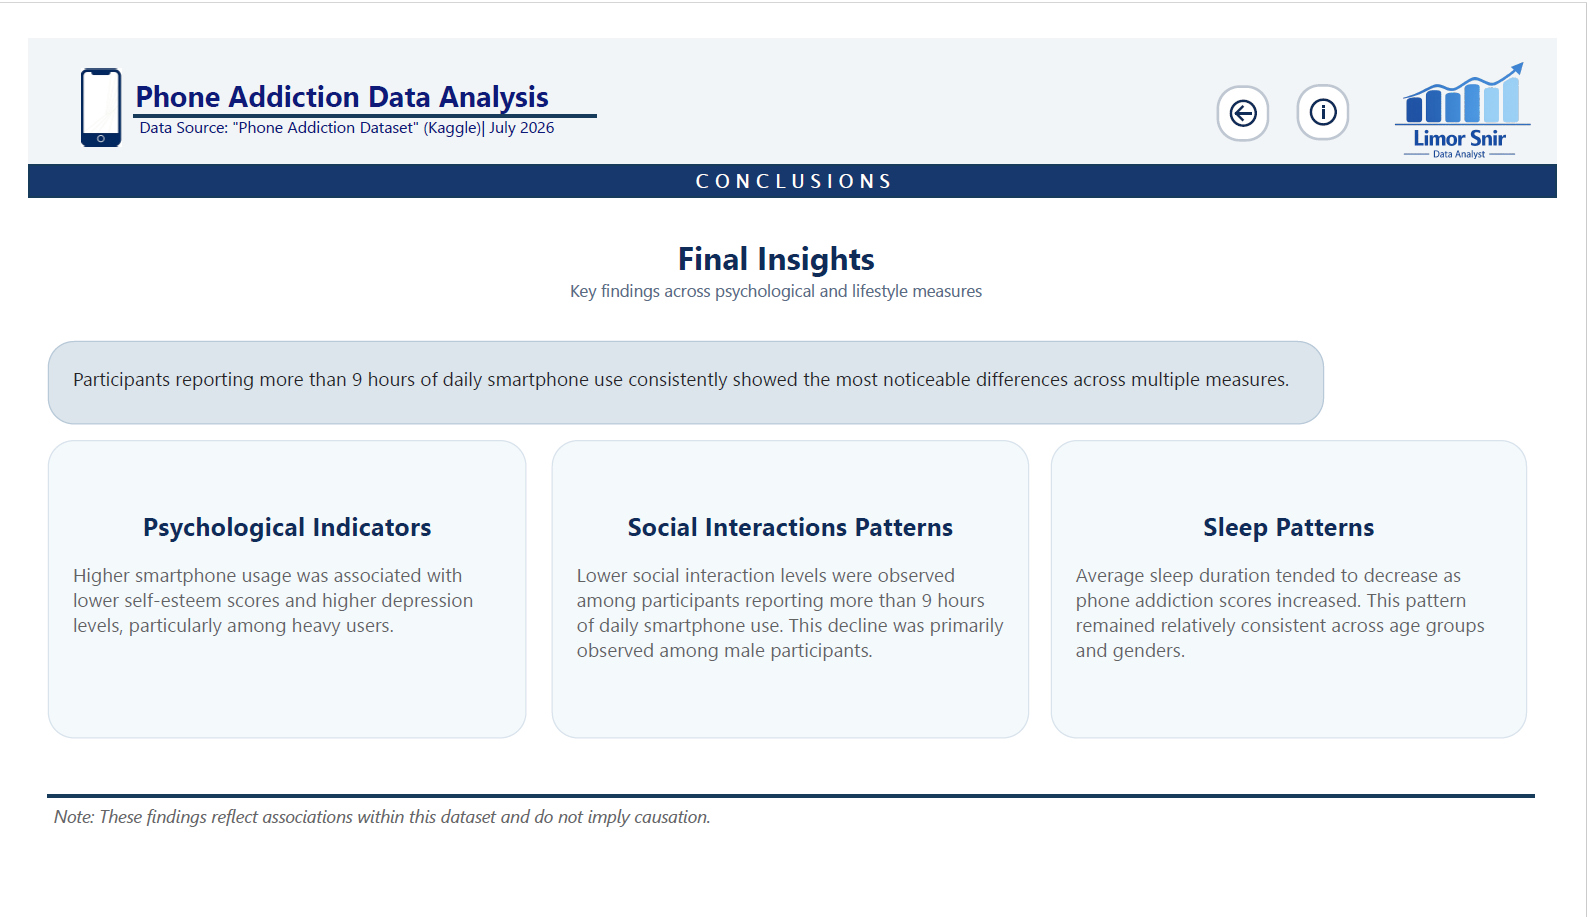

The page's visual inventory and layout, read from the dashboard file:
{"tool":"powerbi","page":{"name":"CONCLUSIONS","canvas":[1280,720],"ordinal":5},"visuals":[{"type":"shape","title":"Title Line","box":[0,79.8,1280,69.8],"z":0},{"type":"textbox","title":"text box Title","box":[0,6.1,1280.3,107.6],"z":1000},{"type":"actionButton","box":[1061.6,44,44,47],"z":2000},{"type":"image","box":[1129.7,18.1,141.9,93.2],"z":3000},{"type":"shape","title":"Page Title","box":[0,110.9,1280,28.4],"z":5000},{"type":"textbox","box":[100.5,166.3,1050.1,83.2],"z":10000},{"type":"textbox","box":[15.9,642,1245,62.2],"z":11000},{"type":"shape","box":[15.9,560.1,1244.8,160.2],"z":12000},{"type":"actionButton","box":[994.8,44.5,44.5,47.3],"z":13000},{"type":"shape","box":[87.6,0,388.3,140.6],"z":14000},{"type":"image","box":[8.6,26.2,104.4,75.2],"z":15000},{"type":"textbox","box":[15.9,342.4,401.1,249.5],"z":20000},{"type":"textbox","box":[856,342.4,398.6,249.5],"z":21000},{"type":"textbox","box":[437.8,342.4,399.9,249.5],"z":22000},{"type":"textbox","box":[15.9,259.2,1068.8,69.7],"z":23000}]}

Visuals, with their boxes in screenshot pixels (x1, y1, x2, y2), scaled from the page's 1280x720 canvas onto the 1587x917 screenshot:
"Title Line" shape: crop(0, 102, 1586, 191)
"text box Title" textbox: crop(0, 8, 1586, 145)
actionButton: crop(1316, 56, 1371, 116)
image: crop(1401, 23, 1577, 142)
"Page Title" shape: crop(0, 141, 1586, 177)
textbox: crop(125, 212, 1427, 318)
textbox: crop(20, 818, 1563, 897)
shape: crop(20, 713, 1563, 916)
actionButton: crop(1233, 57, 1289, 117)
shape: crop(109, 0, 590, 179)
image: crop(11, 33, 140, 129)
textbox: crop(20, 436, 517, 754)
textbox: crop(1061, 436, 1556, 754)
textbox: crop(543, 436, 1039, 754)
textbox: crop(20, 330, 1345, 419)
